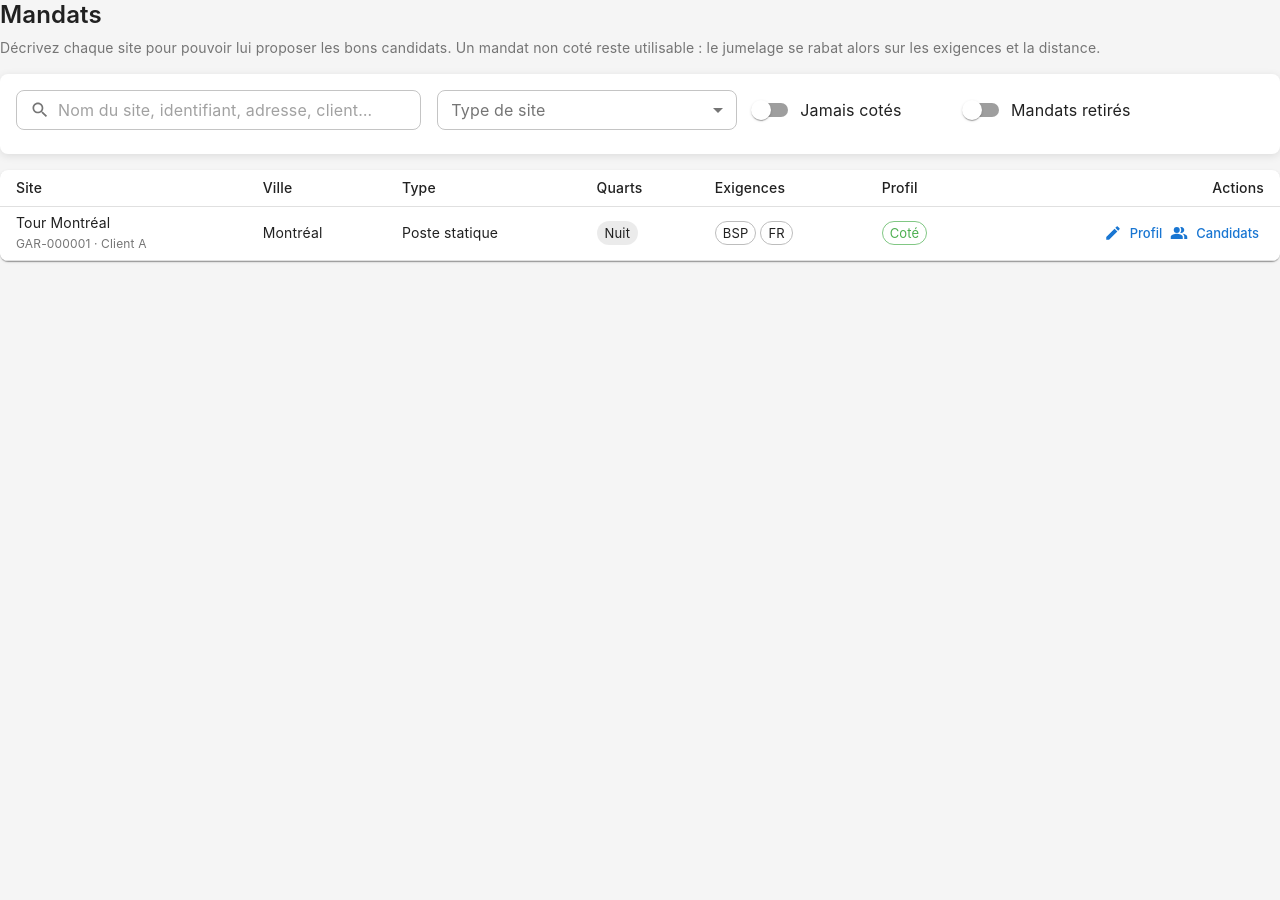
Test: MandatesPage › dialogue des candidats › avertit quand aucun candidat n est proposable
The image size is (1280, 900).
Expected: the text "Tour Montréal" is shown, [16,214,110,231]
Step 1. Click the button "Candidats" → click(1216, 234), box [1167,218,1264,249]
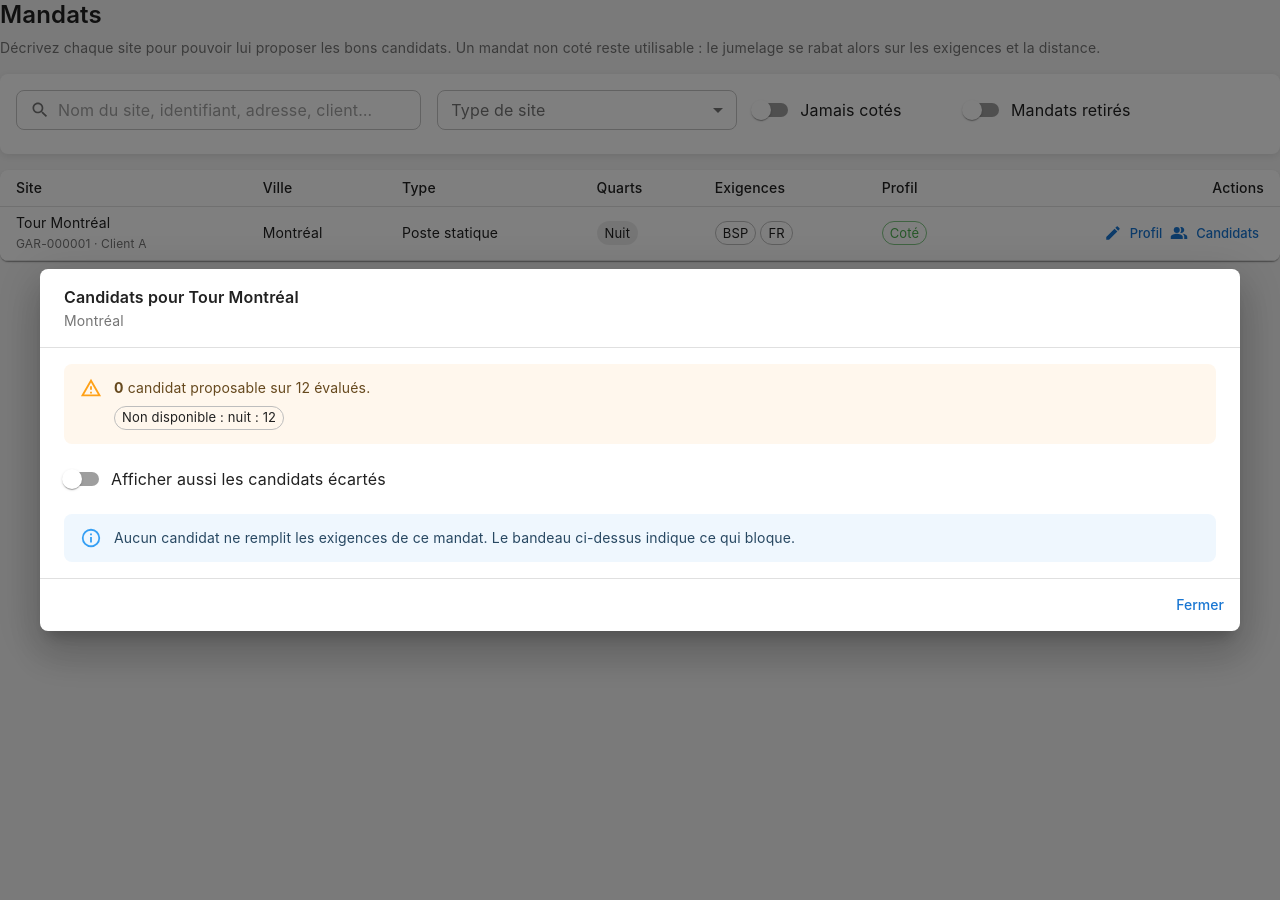
Now the text "Aucun candidat ne remplit les exigences" is shown, box [114,528,795,546]
Now the text "Non disponible : nuit : 12" is shown, box [115,408,283,427]
